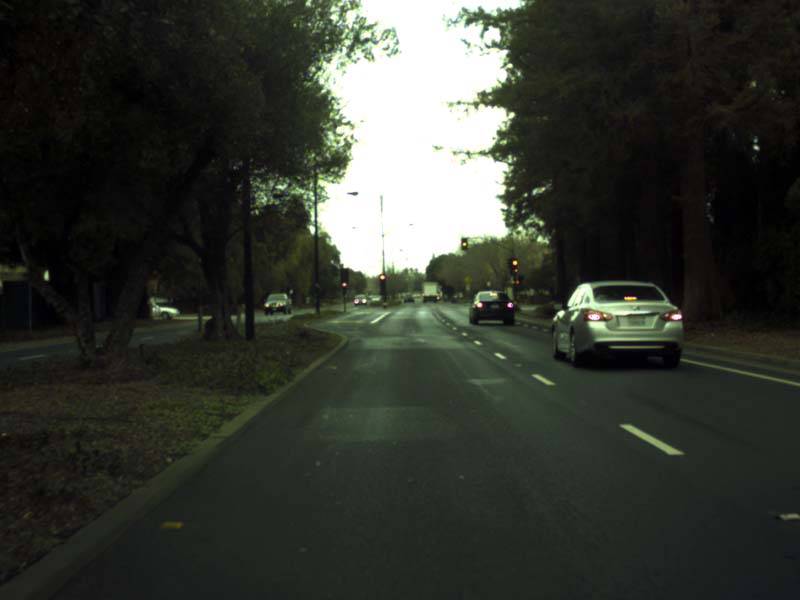Red: (510, 257, 517, 274), (379, 274, 385, 293), (341, 281, 347, 295), (461, 237, 467, 250)
